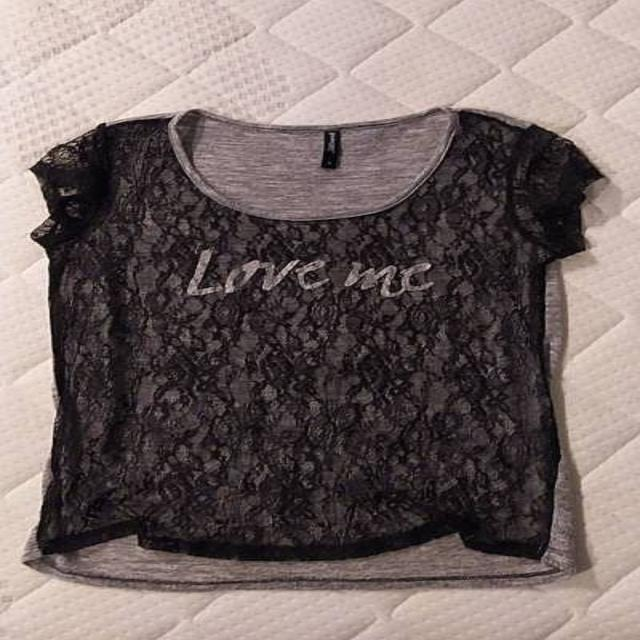T_SHIRT: (18, 97, 617, 605)
